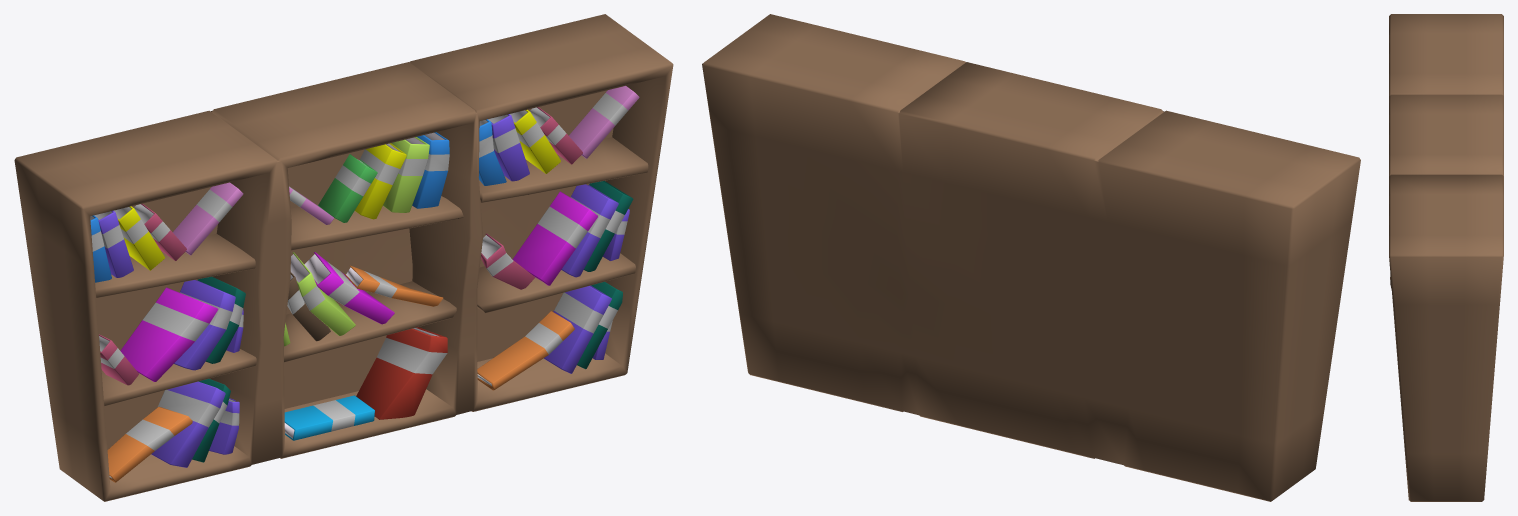
Rendered from props_library_extra_large.fbx.
3 views of the same model, side by side, from view 1: azimuth 30°, elevation 25°; view 2: azimuth 150°, elevation 25°; view 3: azimuth 270°, elevation 25° (orthographic). The views are drawn at different scales.
Parts seen in each view (by area): view 1: Library.032; view 2: Library.032; view 3: Library.032.
Boxes of the visible parts, x1,y1,x2,y2 form: Library.032: (14, 14, 673, 501); Library.032: (702, 14, 1360, 501); Library.032: (1389, 14, 1503, 501).
Bounding box in the file's own units: 570 × 288 × 114.
